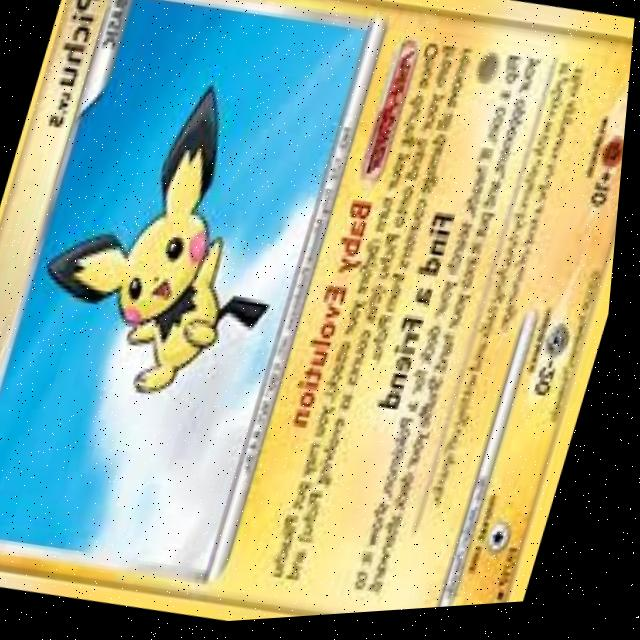pichu: (0, 62, 339, 464)
